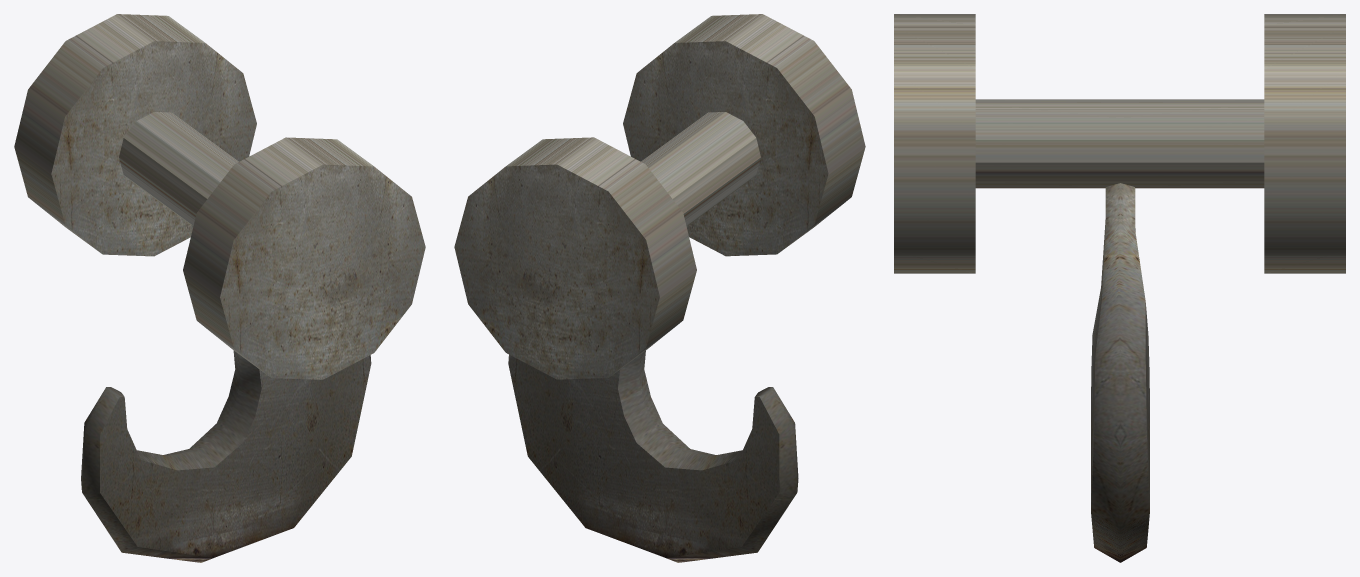
Rendered from SM_Beam_Machine_Hook.FBX.
The picture shows the model from 3 angles, left to right: view 1: azimuth 30°, elevation 25°; view 2: azimuth 150°, elevation 25°; view 3: azimuth 270°, elevation 25°; orthographic projection. The views are drawn at different scales.
Parts seen in each view (by area): view 1: SM_Beam_Machine_Hook; view 2: SM_Beam_Machine_Hook; view 3: SM_Beam_Machine_Hook.
Boxes of the visible parts, x1,y1,x2,y2 form: SM_Beam_Machine_Hook: [14, 14, 425, 562]; SM_Beam_Machine_Hook: [454, 14, 865, 562]; SM_Beam_Machine_Hook: [894, 14, 1345, 562].
Bounding box in the file's own units: 0.3848 × 0.5981 × 0.4753.
